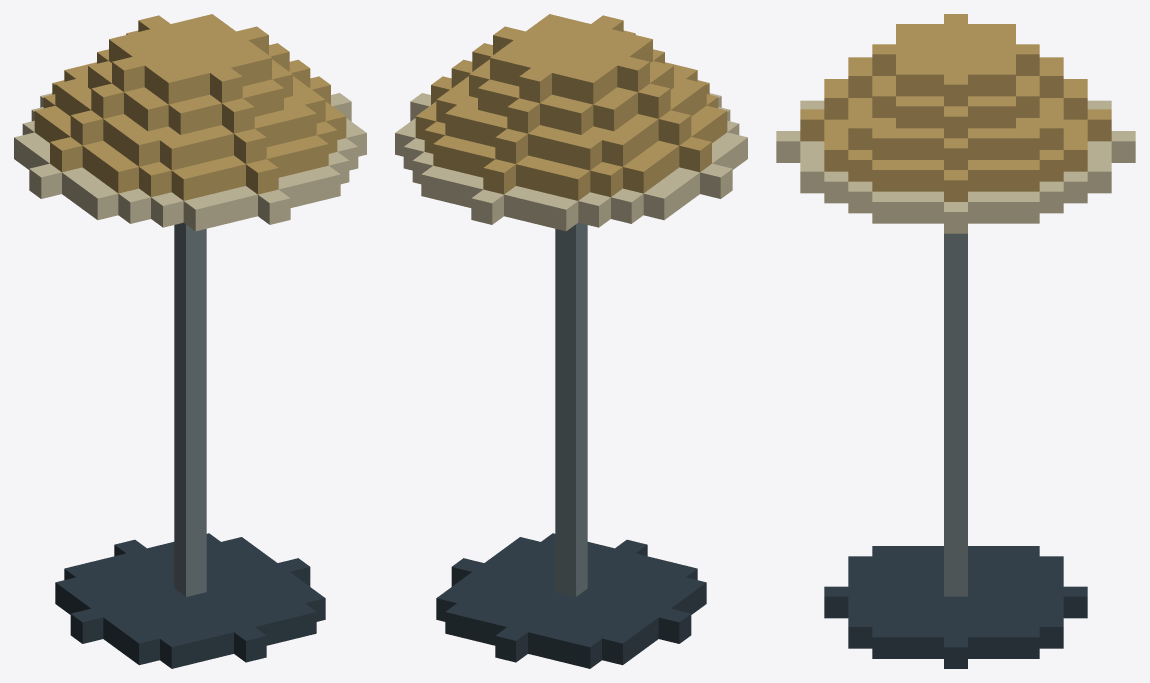
Rendered from education-16.glb.
The picture shows the model from 3 angles, left to right: view 1: azimuth 30°, elevation 25°; view 2: azimuth 150°, elevation 25°; view 3: azimuth 270°, elevation 25°; orthographic projection.
Parts seen in each view (by area): view 1: Reading lamp; view 2: Reading lamp; view 3: Reading lamp.
Boxes of the visible parts, x1,y1,x2,y2 form: Reading lamp: (14,14,366,668); Reading lamp: (395,14,747,668); Reading lamp: (776,14,1135,668).
Size of the model in its own units: 1.2 by 2.08 by 1.2.
